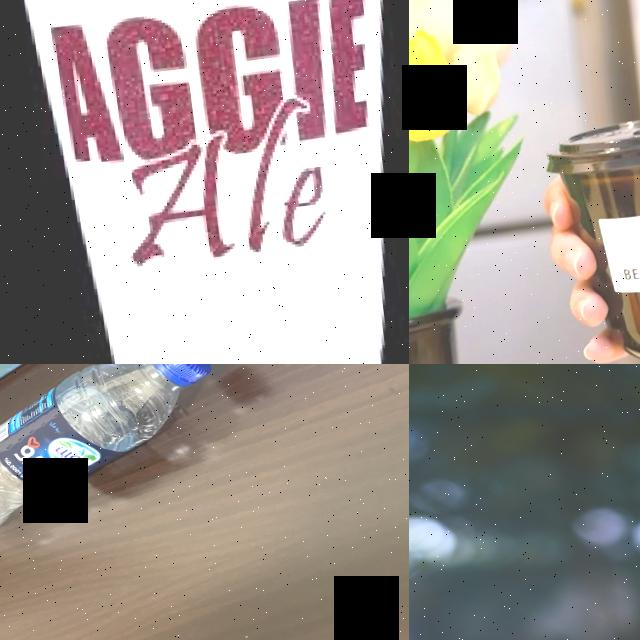bottle: (0, 364, 233, 553)
cup: (0, 0, 409, 364), (540, 96, 640, 364)
